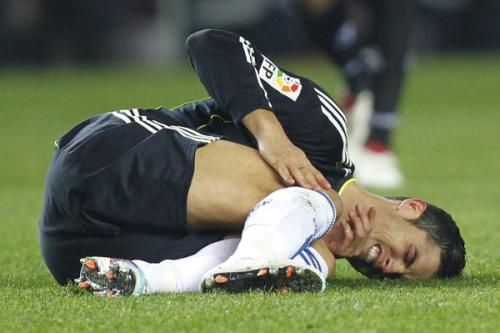falling: (24, 5, 471, 318)
